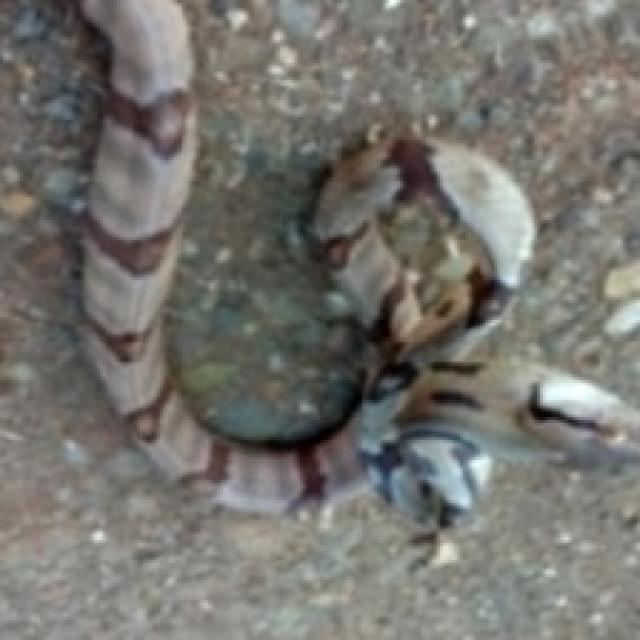dog-toothed cat snake: (80, 0, 640, 523)
